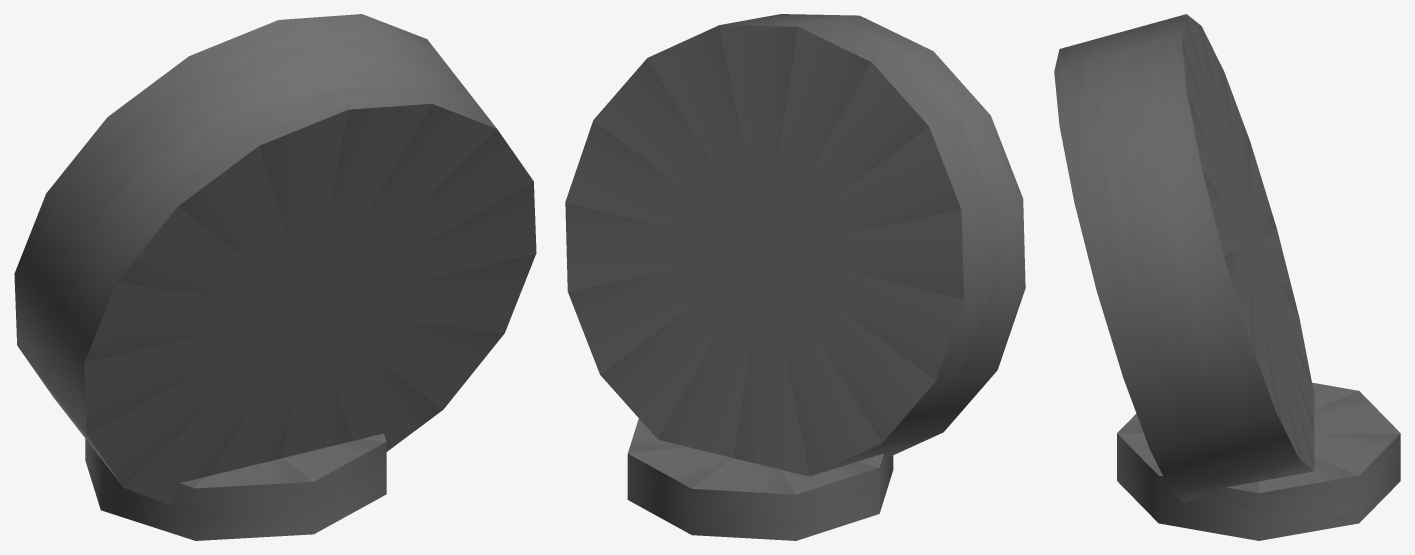
File: mastarmcurve_10x2_c3_down.obj
The picture shows the model from 3 angles, left to right: view 1: azimuth 30°, elevation 25°; view 2: azimuth 150°, elevation 25°; view 3: azimuth 270°, elevation 25°; orthographic projection. The views are drawn at different scales.
Parts seen in each view (by area): view 1: mastarm_10x2_c3_down; view 2: mastarm_10x2_c3_down; view 3: mastarm_10x2_c3_down.
Boxes of the visible parts, <box> form: mastarm_10x2_c3_down: <box>14,14,536,540</box>; mastarm_10x2_c3_down: <box>565,14,1025,540</box>; mastarm_10x2_c3_down: <box>1054,14,1400,540</box>.
Size of the model in its own units: 0.6695 by 0.6951 by 0.4886.
